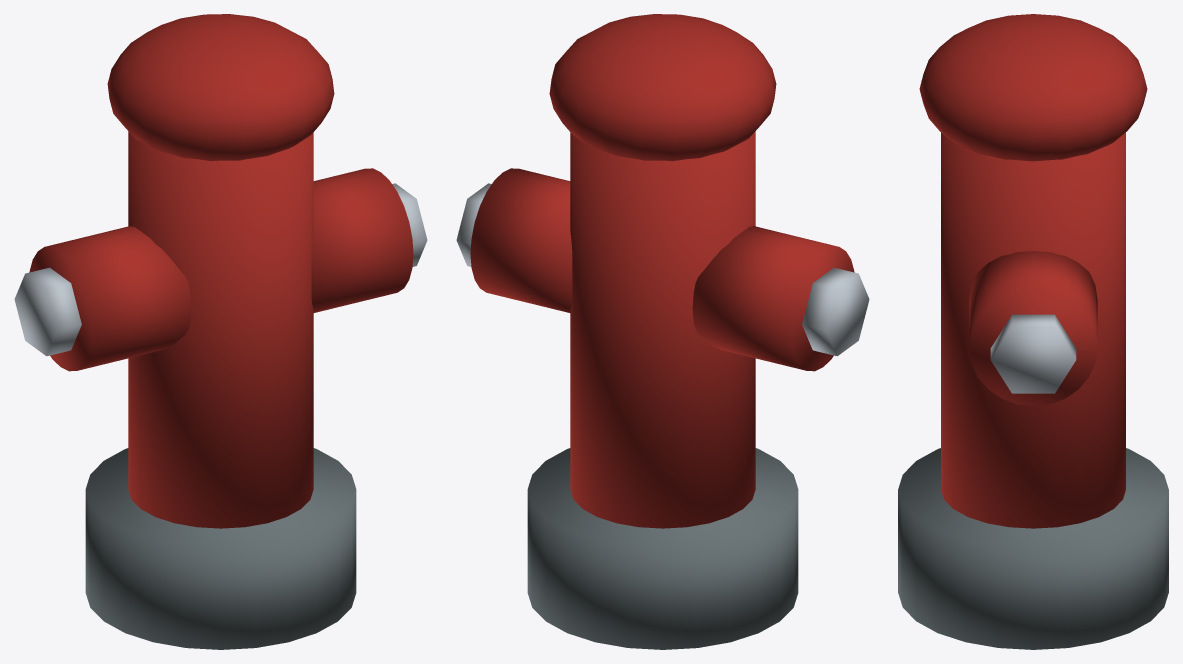
File: mc_hydrant.glb
3 views of the same model, side by side, from view 1: azimuth 30°, elevation 25°; view 2: azimuth 150°, elevation 25°; view 3: azimuth 270°, elevation 25° (orthographic).
Parts seen in each view (by area): view 1: mc_hydrant__Geometry; view 2: mc_hydrant__Geometry; view 3: mc_hydrant__Geometry.
Part boxes in pixels (<box>): mc_hydrant__Geometry: <box>14,14,427,649</box>; mc_hydrant__Geometry: <box>456,14,869,649</box>; mc_hydrant__Geometry: <box>898,14,1168,649</box>.
Size of the model in its own units: 0.6 by 0.87 by 0.38.
